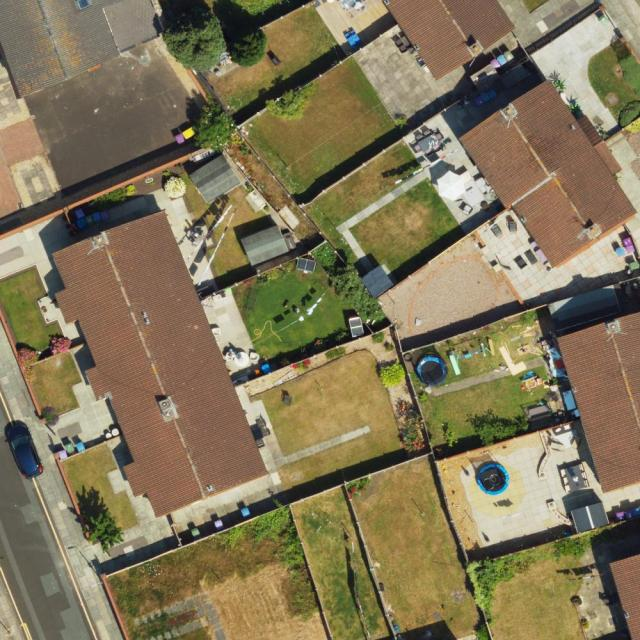roof: (51, 210, 267, 519), (457, 81, 640, 272), (0, 0, 172, 100), (557, 311, 640, 494), (382, 0, 516, 81), (610, 552, 640, 640)
skylight: (76, 0, 92, 10)
